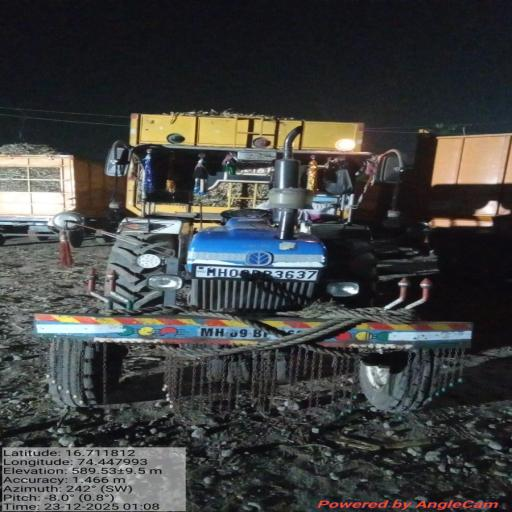number_plate: (197, 256, 328, 287)
